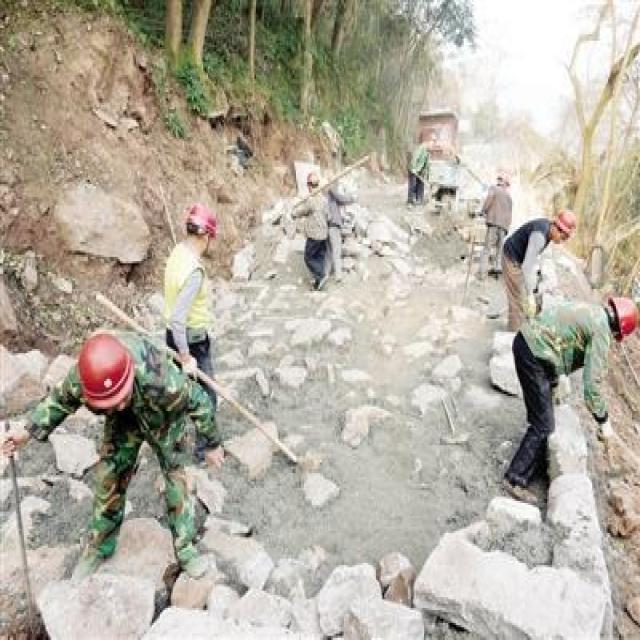hat: (70, 332, 136, 417), (182, 199, 221, 257), (598, 291, 640, 338), (548, 204, 578, 248)
